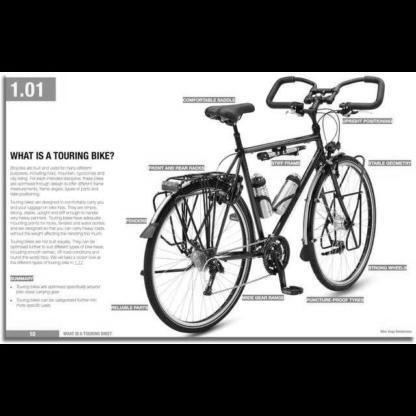Bicycle: (138, 73, 407, 334)
